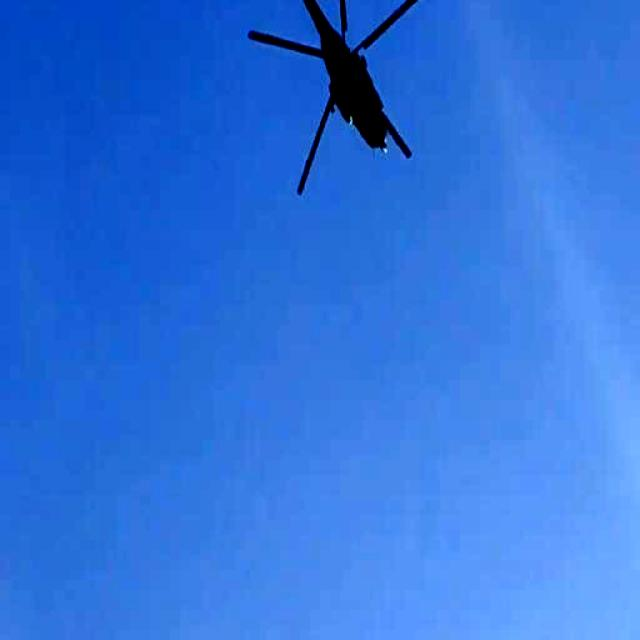drone: (244, 0, 444, 196)
